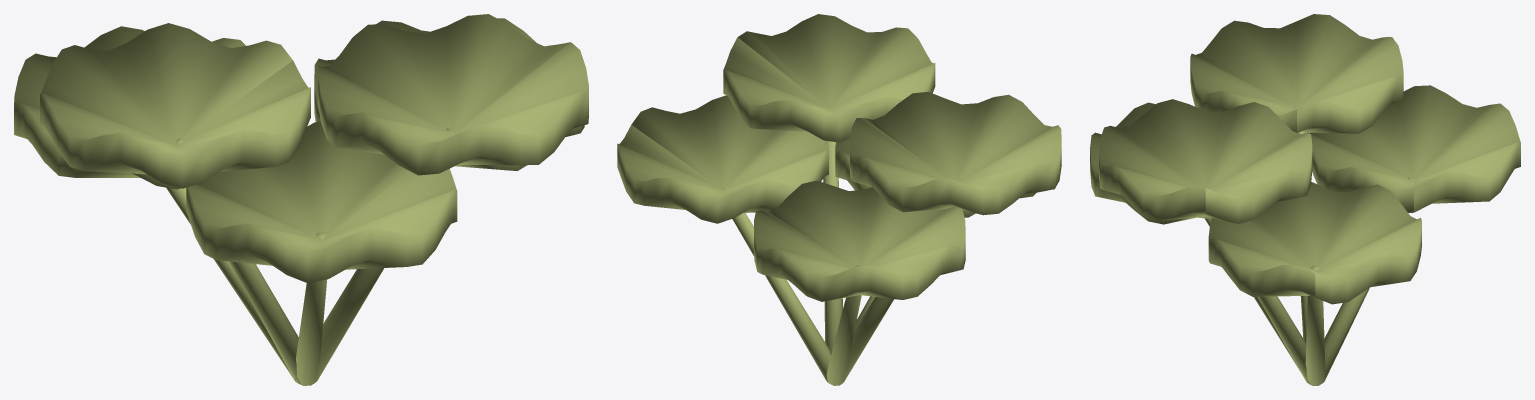
Rendered from underwater-reef-worlds-calcareous-algae-3e239f16__7043.glb.
The picture shows the model from 3 angles, left to right: view 1: azimuth 30°, elevation 25°; view 2: azimuth 150°, elevation 25°; view 3: azimuth 270°, elevation 25°; orthographic projection. The views are drawn at different scales.
Parts seen in each view (by area): view 1: calcareous-algae; view 2: calcareous-algae; view 3: calcareous-algae.
Boxes of the visible parts, <box> form: calcareous-algae: <box>14,14,588,385</box>; calcareous-algae: <box>617,14,1061,385</box>; calcareous-algae: <box>1090,14,1520,385</box>.
Bounding box in the file's own units: 0.7978 × 0.5046 × 0.7265.
